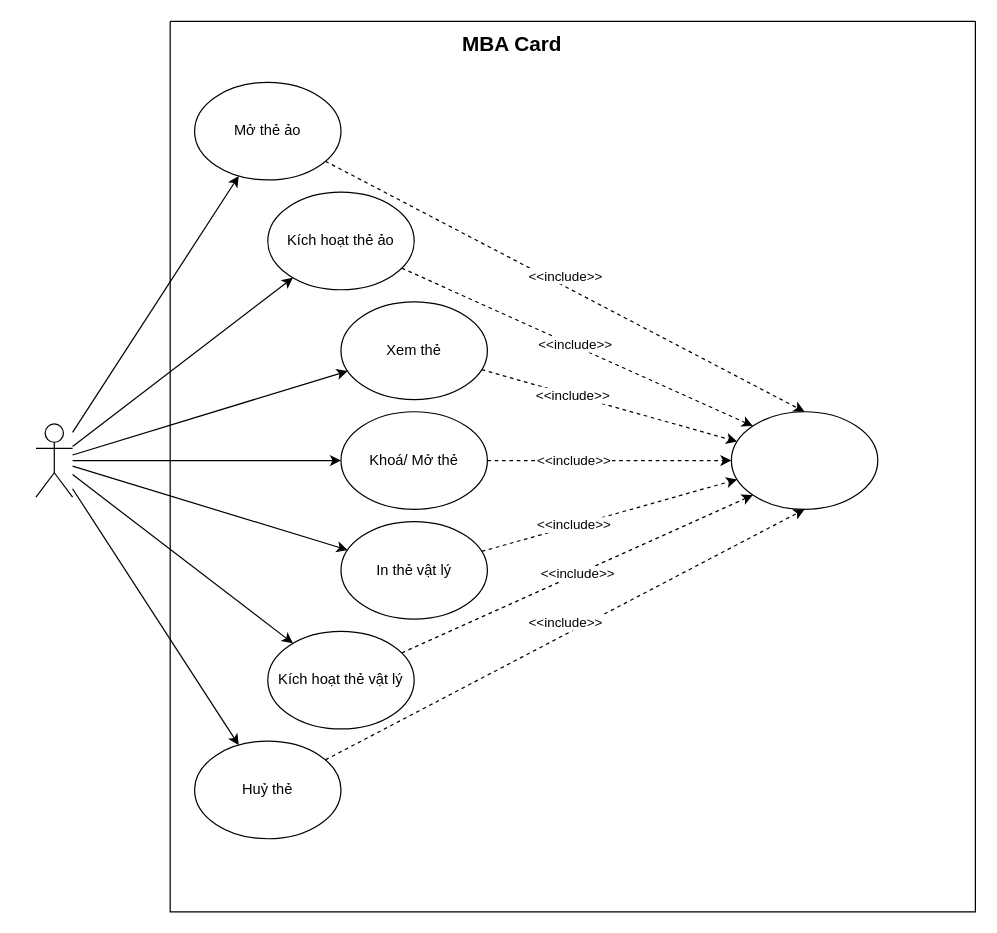
Some shapes in this 997 by 933 pixel diagram are drawn without their labels. The centre of each missing label's shape, as x and y in pixels:
"MBA User" belongs at point 54,460.
"Đăng nhập" belongs at point 804,460.
